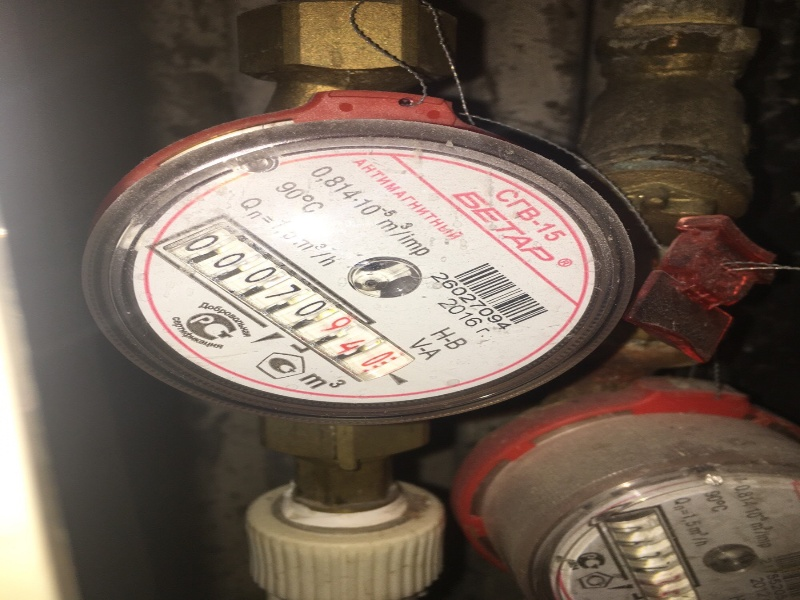meter: (162, 273, 421, 340)
